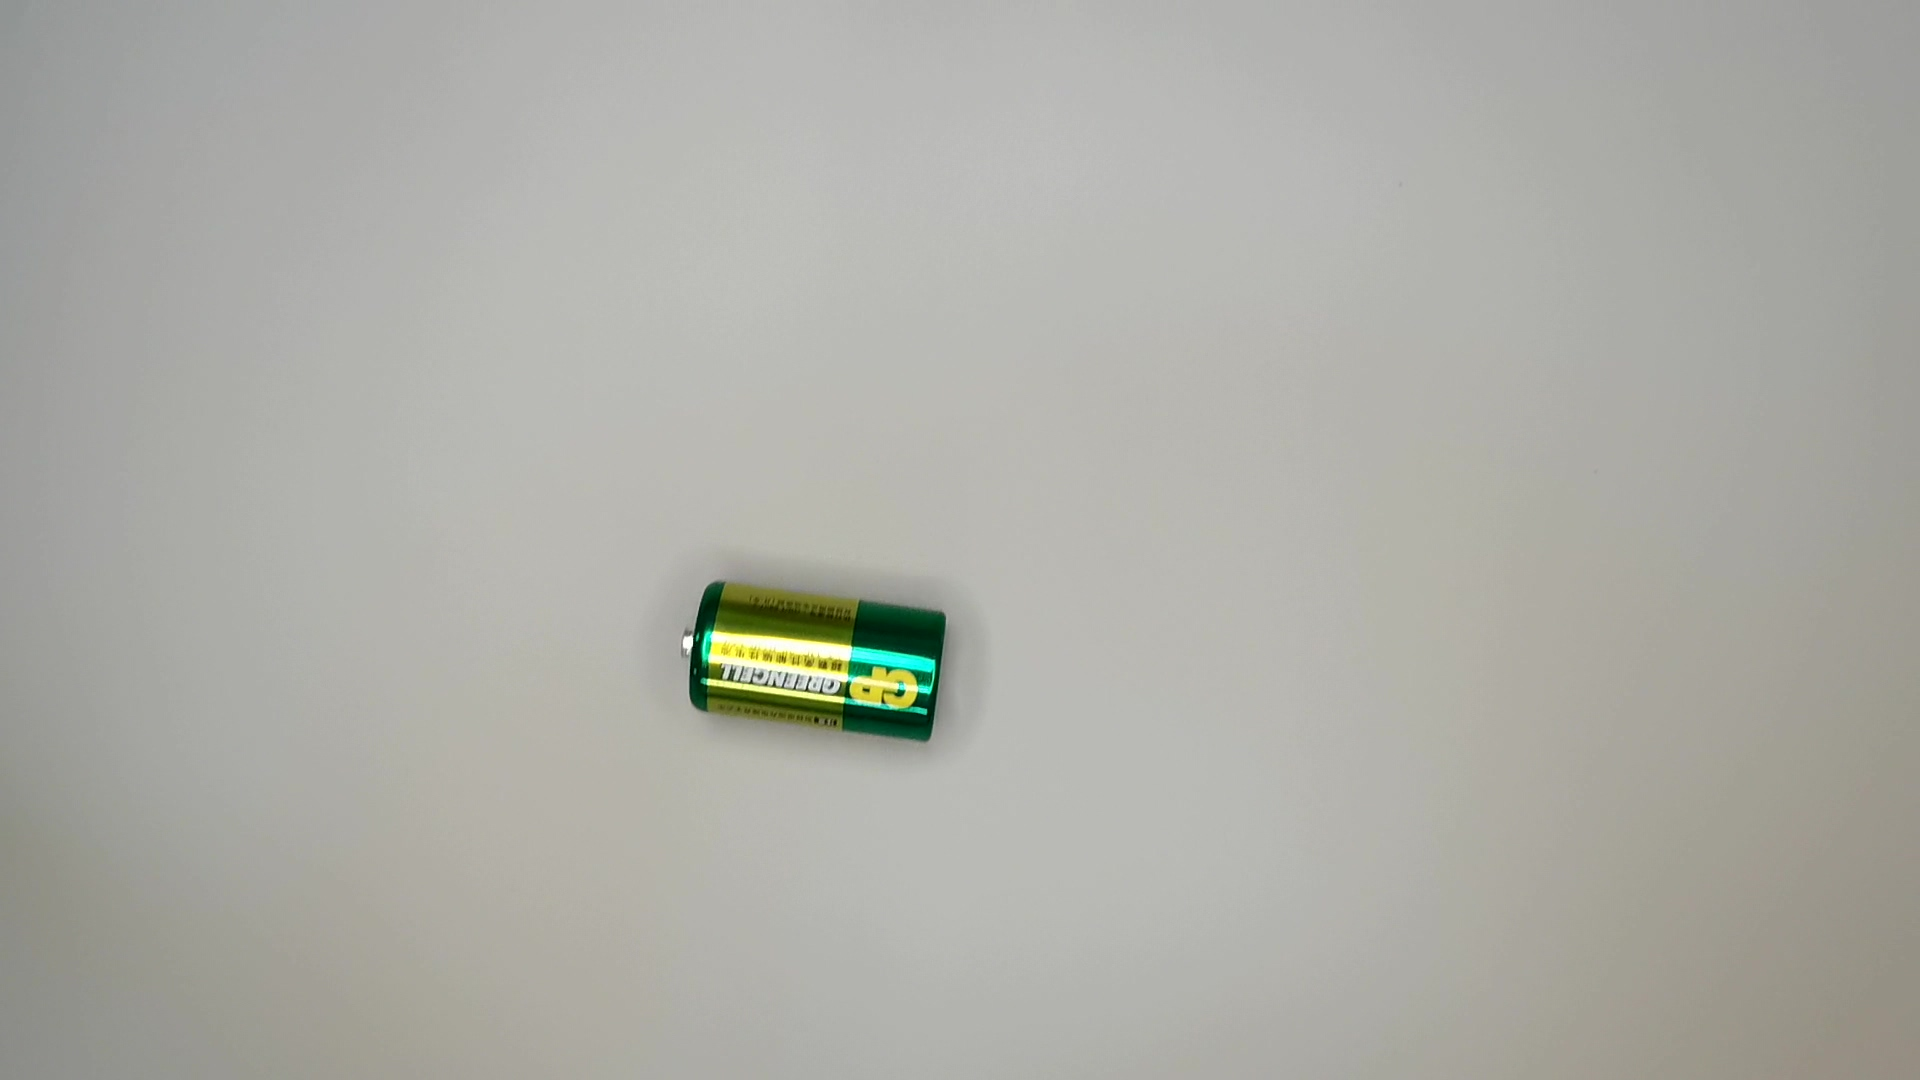battery: (680, 582, 951, 753)
